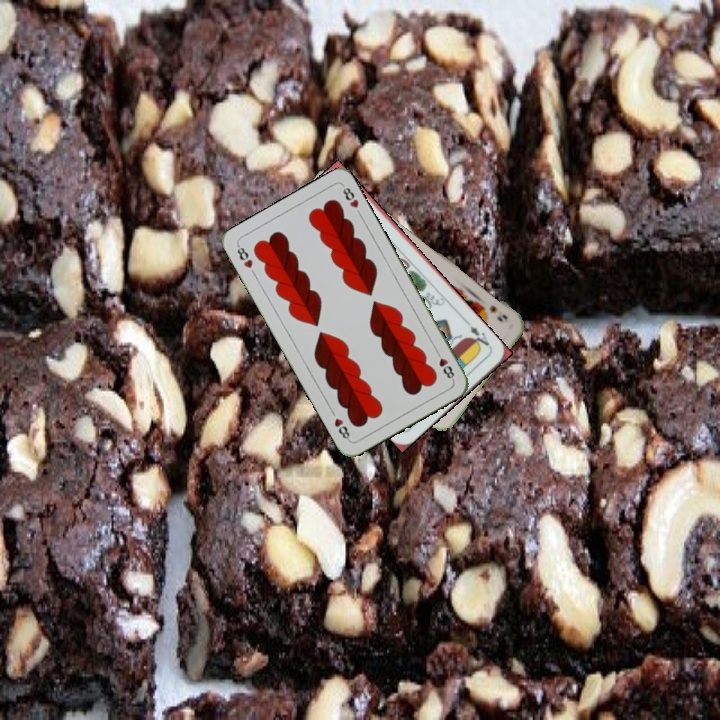EA: (466, 322, 494, 352)
H8: (431, 345, 457, 383), (233, 241, 255, 271)
S9: (486, 301, 510, 325)
